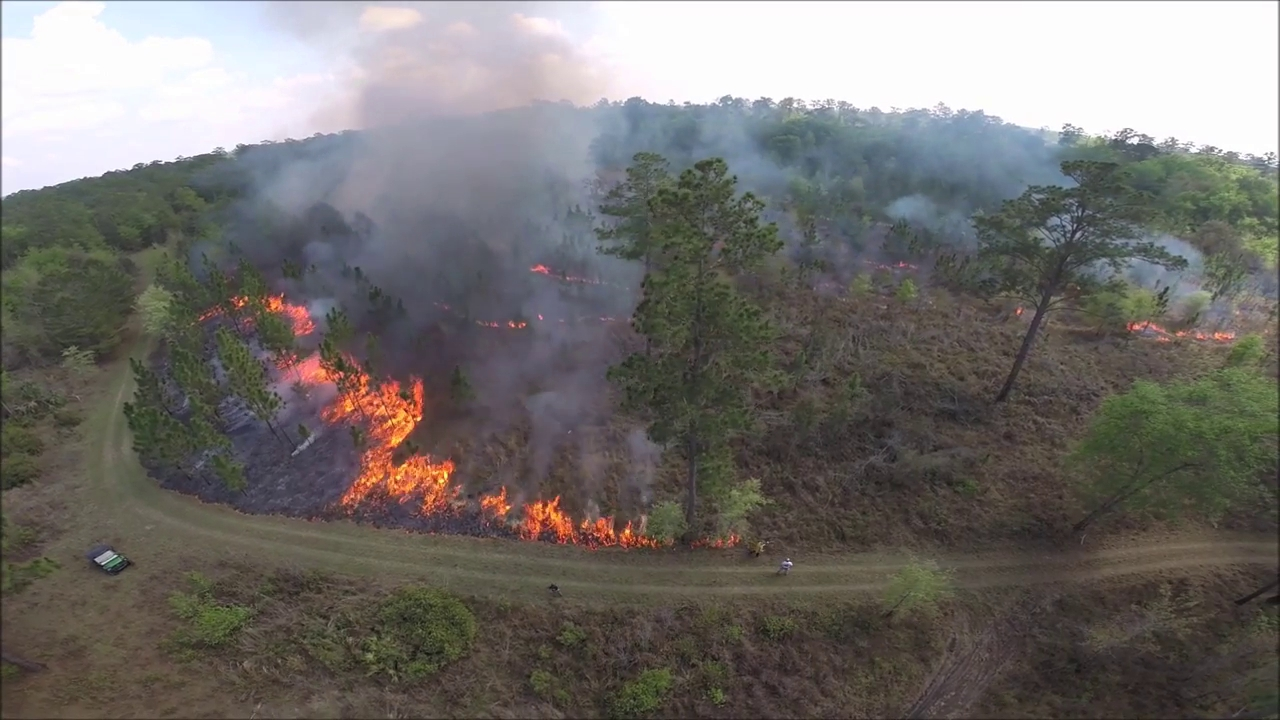forest_fire: (320, 357, 463, 516), (478, 488, 663, 546), (1128, 321, 1235, 342), (266, 294, 312, 333), (281, 353, 336, 385), (701, 536, 736, 546), (480, 320, 525, 327), (201, 310, 218, 318), (232, 298, 247, 307), (600, 318, 610, 319)
